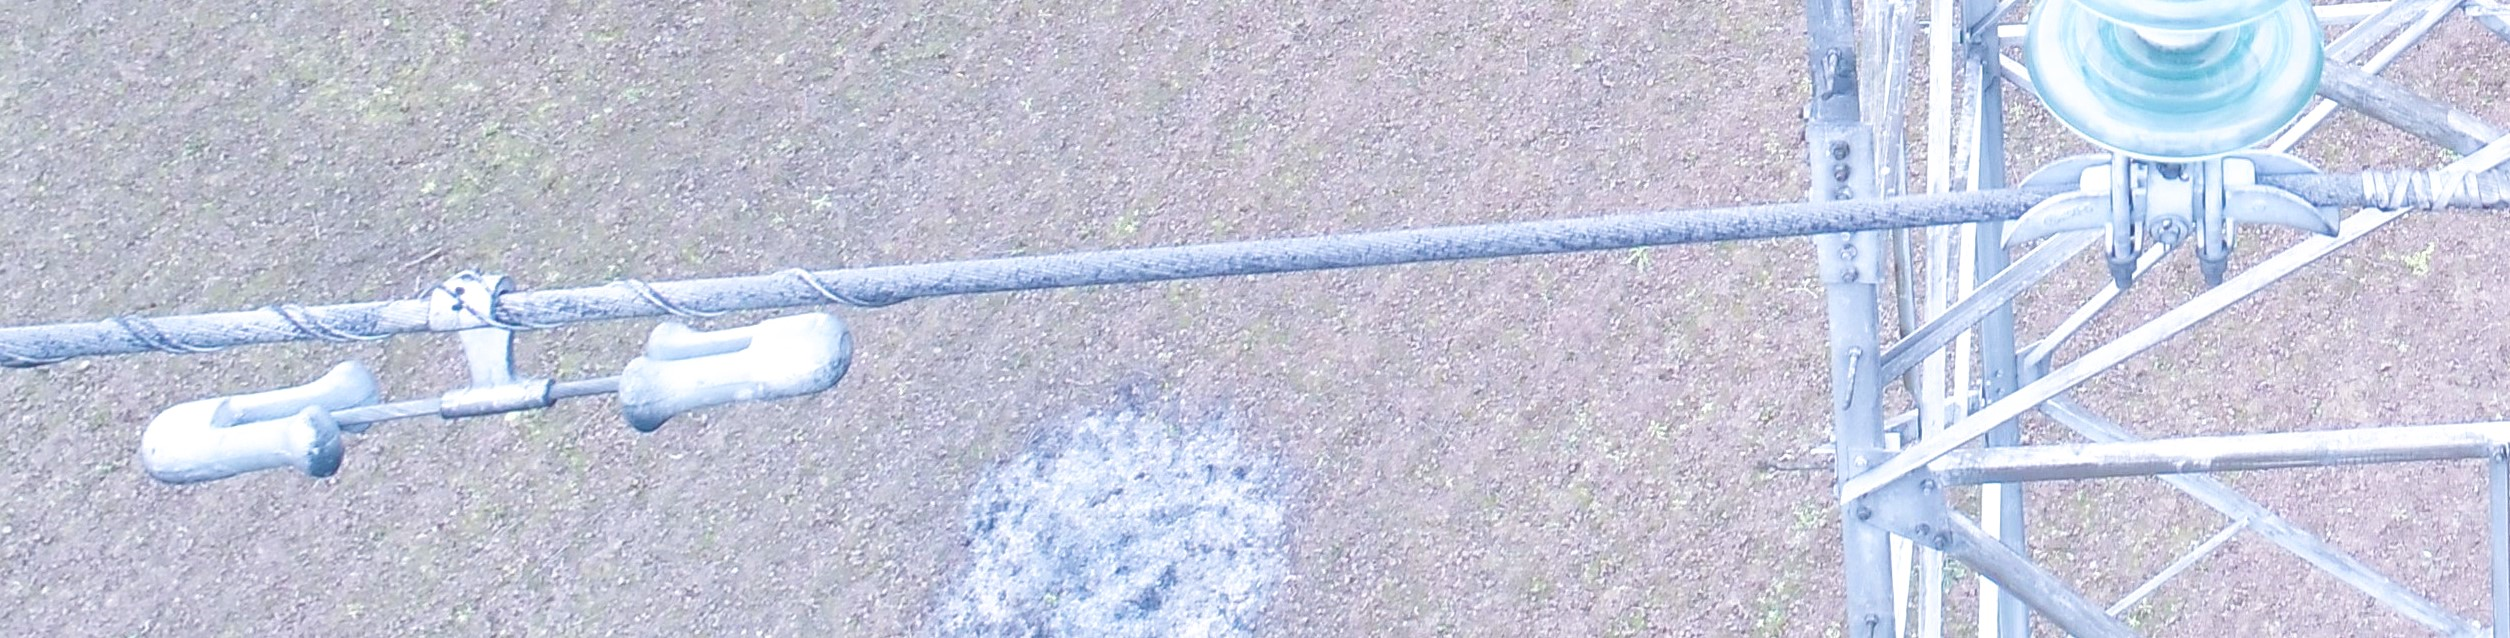Shockproof hammer: (125, 253, 864, 499)
